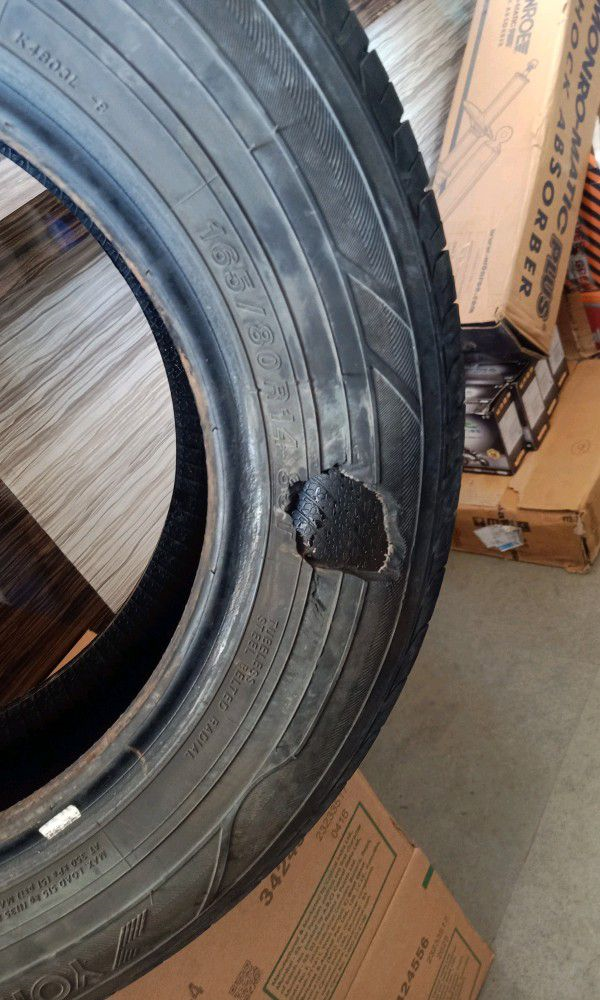bead_damage: (277, 457, 408, 622)
